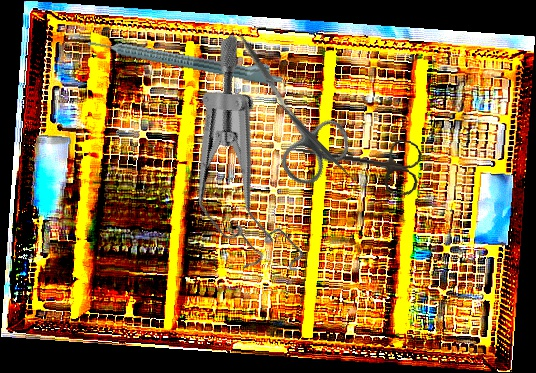Handpiece: (86, 27, 286, 88)
Iris Scissors: (206, 14, 360, 192), (288, 125, 424, 197)
Spatula Surgical: (268, 92, 359, 187)
Speculum: (122, 31, 374, 299)
